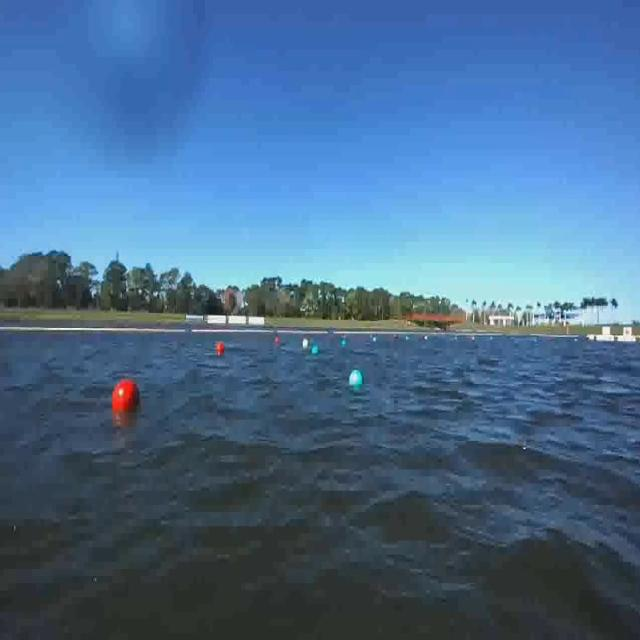green-buoy: (351, 369, 364, 390), (311, 342, 320, 356)
red-buoy: (112, 378, 141, 412), (217, 342, 224, 357)
